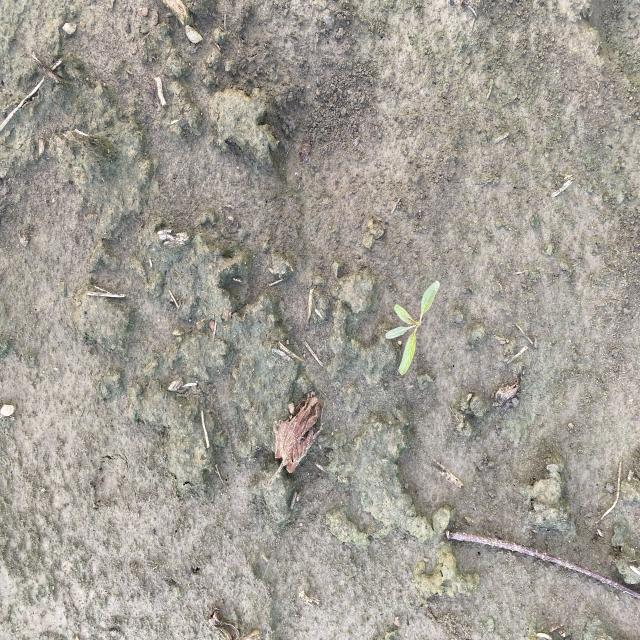Waterhemp: (385, 279, 441, 376)
